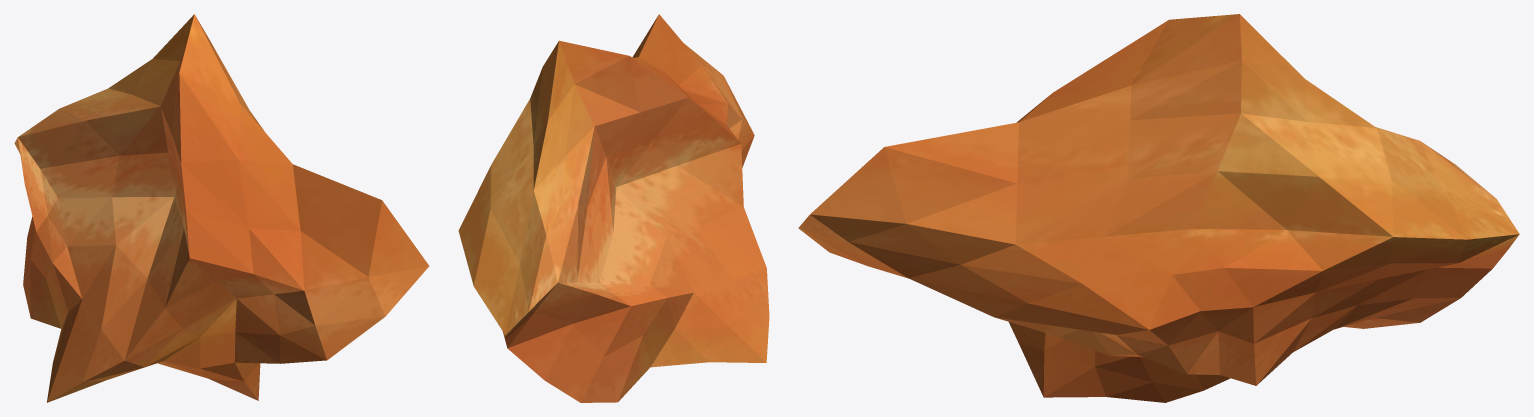
Rendered from rock_002.fbx.
The picture shows the model from 3 angles, left to right: view 1: azimuth 30°, elevation 25°; view 2: azimuth 150°, elevation 25°; view 3: azimuth 270°, elevation 25°; orthographic projection. The views are drawn at different scales.
Visible parts, largest first — view 1: Rock.002; view 2: Rock.002; view 3: Rock.002.
Part boxes in pixels (x1,y1,x2,y2): Rock.002: [14, 14, 429, 402]; Rock.002: [458, 14, 769, 402]; Rock.002: [798, 14, 1519, 402].
Bounding box in the file's own units: 213 × 236 × 387.
